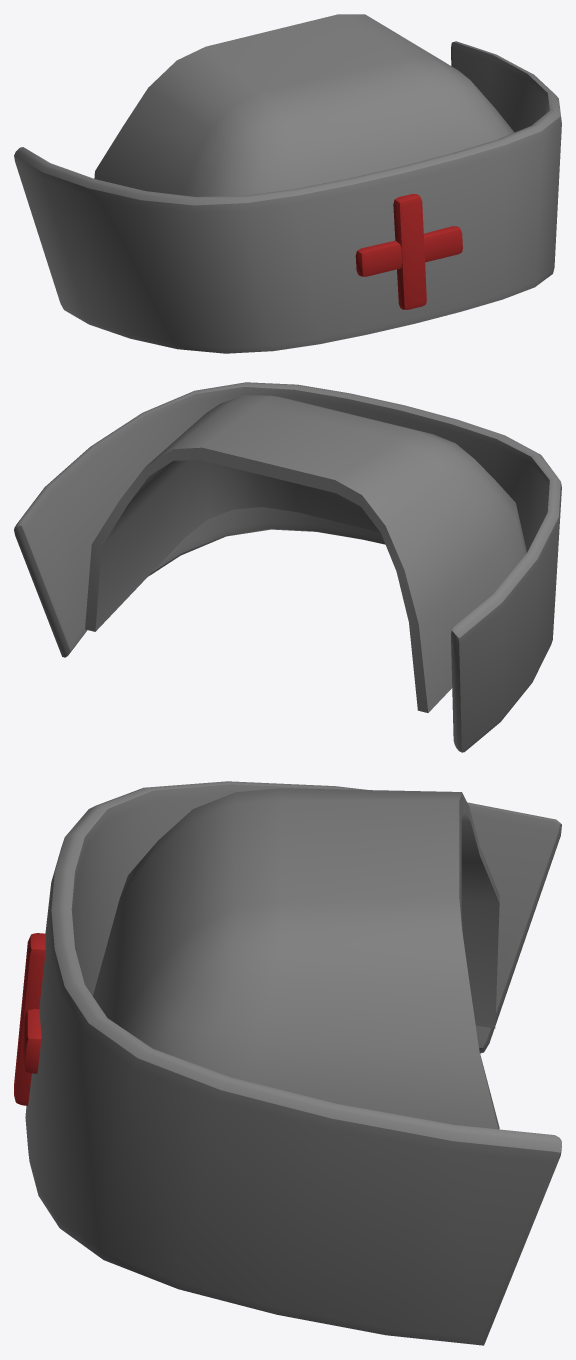
Rendered from SM_hat_nurse.fbx.
3 views of the same model, one above another, from view 1: azimuth 30°, elevation 25°; view 2: azimuth 150°, elevation 25°; view 3: azimuth 270°, elevation 25° (orthographic). The views are drawn at different scales.
Visible parts, largest first — view 1: Box322; view 2: Box322; view 3: Box322.
Boxes of the visible parts, x1=… form: Box322: x1=14, y1=14, x2=561, y2=353; Box322: x1=14, y1=382, x2=561, y2=752; Box322: x1=14, y1=781, x2=561, y2=1345.
Bounding box in the file's own units: 32.67 × 15.98 × 22.57.
